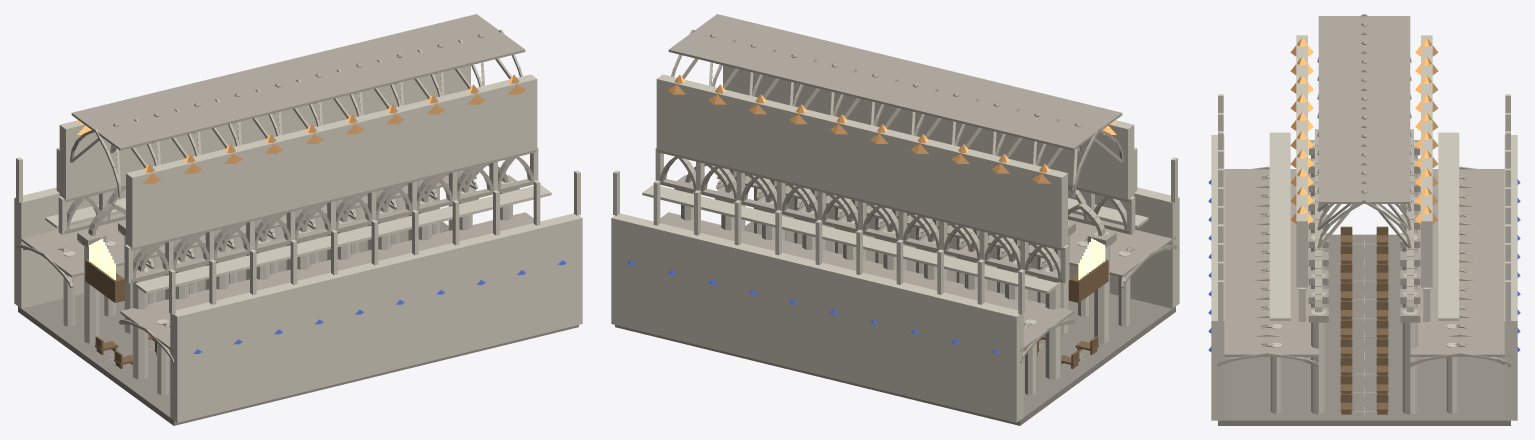
Rendered from 02_nave.glb.
The picture shows the model from 3 angles, left to right: view 1: azimuth 30°, elevation 25°; view 2: azimuth 150°, elevation 25°; view 3: azimuth 270°, elevation 25°; orthographic projection. The views are drawn at different scales.
Parts seen in each view (by area): view 1: nave_stone, nave_stoneshaded_nocol, nave_stoneshaded, nave_stonedark, nave_glasswarm_nocol, nave_oak, nave_gold; view 2: nave_stone, nave_stoneshaded_nocol, nave_stoneshaded, nave_stonedark, nave_glasswarm_nocol, nave_oak, nave_gold; view 3: nave_stoneshaded_nocol, nave_stone, nave_stonedark, nave_oak, nave_glasswarm_nocol, nave_stoneshaded, nave_glassblue_nocol.
Boxes of the visible parts, left/top/right/bottom form: nave_stone: left=14, top=65, right=582, bottom=422; nave_stoneshaded_nocol: left=16, top=14, right=533, bottom=362; nave_stoneshaded: left=64, top=150, right=536, bottom=282; nave_stonedark: left=18, top=215, right=578, bottom=425; nave_glasswarm_nocol: left=77, top=74, right=525, bottom=183; nave_oak: left=85, top=259, right=170, bottom=368; nave_gold: left=89, top=238, right=115, bottom=279; nave_stone: left=611, top=65, right=1179, bottom=422; nave_stoneshaded_nocol: left=660, top=14, right=1177, bottom=362; nave_stoneshaded: left=657, top=150, right=1129, bottom=282; nave_stonedark: left=615, top=215, right=1175, bottom=425; nave_glasswarm_nocol: left=668, top=74, right=1116, bottom=183; nave_oak: left=1023, top=259, right=1108, bottom=368; nave_gold: left=1078, top=238, right=1105, bottom=279; nave_stoneshaded_nocol: left=1217, top=14, right=1511, bottom=415; nave_stone: left=1211, top=35, right=1517, bottom=420; nave_stonedark: left=1218, top=234, right=1510, bottom=425; nave_oak: left=1340, top=226, right=1388, bottom=414; nave_glasswarm_nocol: left=1290, top=38, right=1438, bottom=223; nave_stoneshaded: left=1305, top=129, right=1423, bottom=320; nave_glassblue_nocol: left=1208, top=179, right=1520, bottom=351.
Size of what is drawn, in the model's own units: 60.7 by 34.1 by 42.6.
